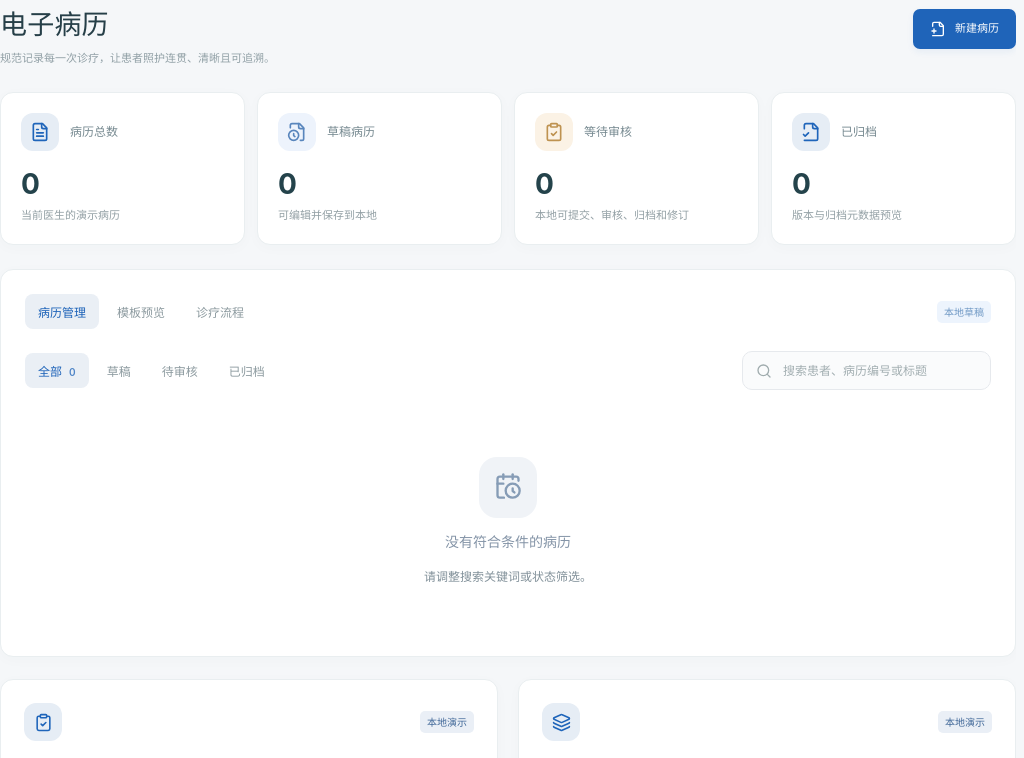
Scenario: Records template catalogue › describes the local review workflow instead of a read-only placeholder
Click the button "诊疗流程".
click(220, 312)  # box [183,294,257,329]
(page scrolled)
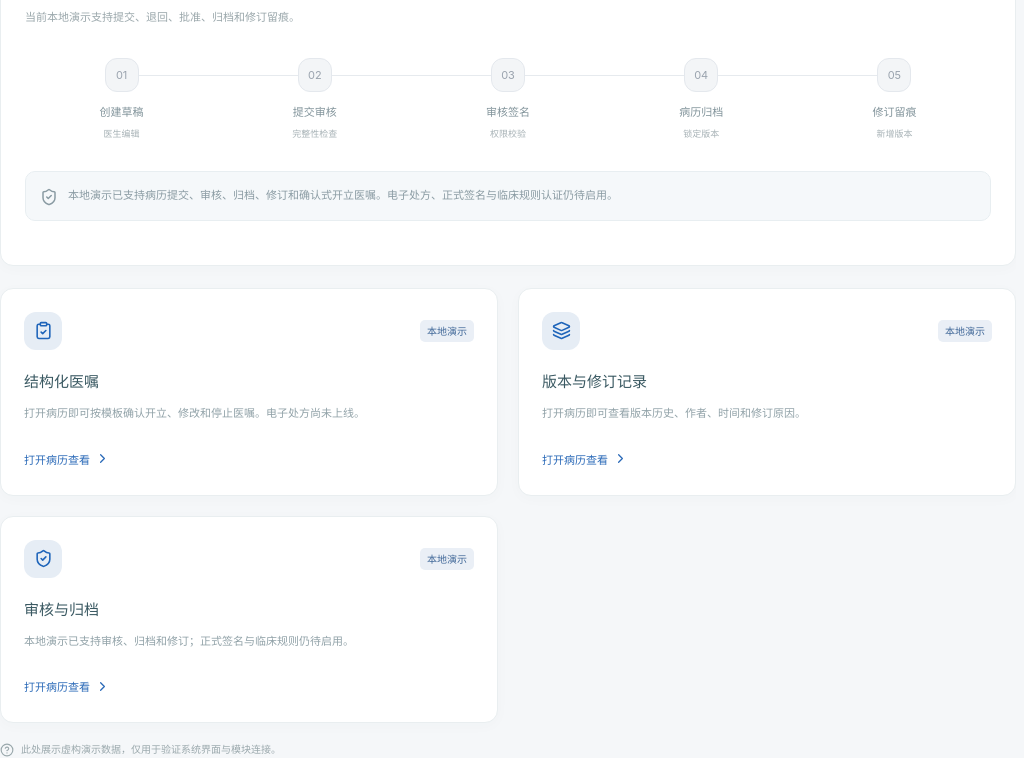
Expected: the 1st text "本地演示" is shown, [420,320,474,342]
Result: the text "当前本地演示支持提交、退回、批准、归档和修订留痕。" is shown at [25,9,300,26]
